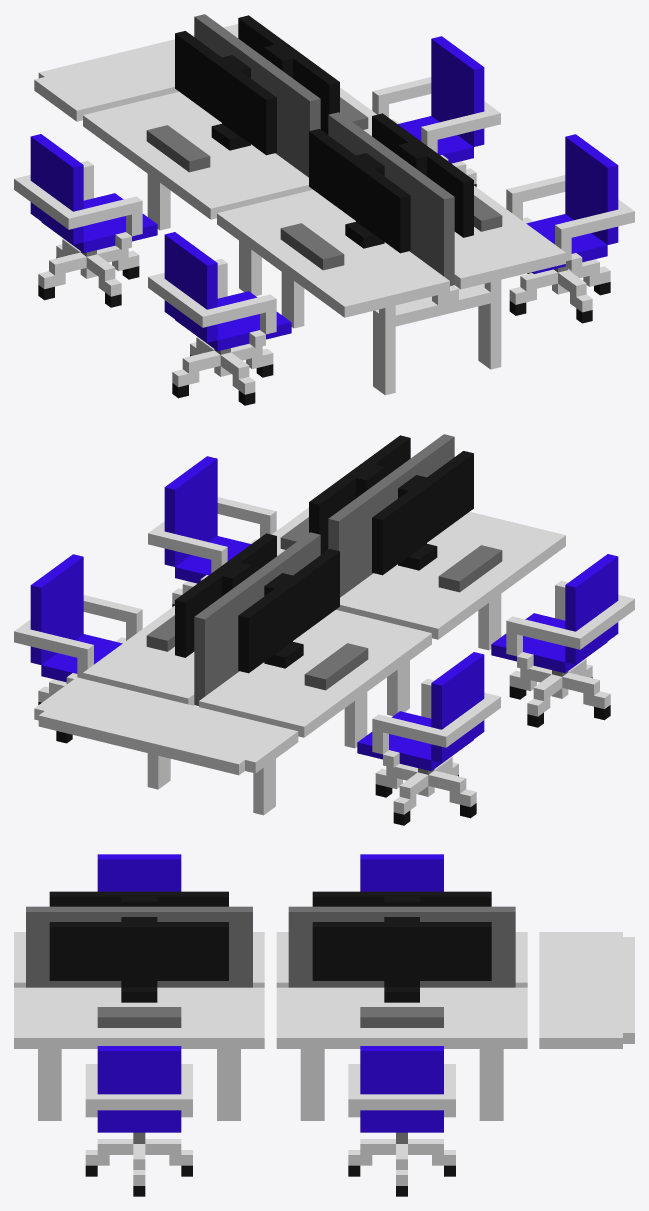
The model's file is 4er-tisch-verl-92-4er arbeitsplatz.obj.
3 views of the same model, one above another, from view 1: azimuth 30°, elevation 25°; view 2: azimuth 150°, elevation 25°; view 3: azimuth 270°, elevation 25° (orthographic).
Visible parts, largest first — view 1: 4er arbeitsplatz; view 2: 4er arbeitsplatz; view 3: 4er arbeitsplatz.
Boxes of the visible parts, x1,y1,x2,y2 form: 4er arbeitsplatz: [14, 14, 634, 405]; 4er arbeitsplatz: [14, 434, 634, 825]; 4er arbeitsplatz: [14, 854, 634, 1196].
Size of the model in its own units: 4.1 by 1.7 by 5.2.
Materials: 1 (1 with a texture image).
